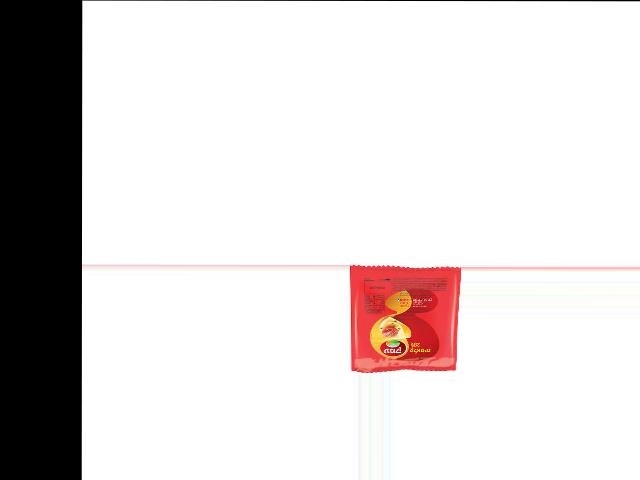cheese: (348, 264, 457, 371)
